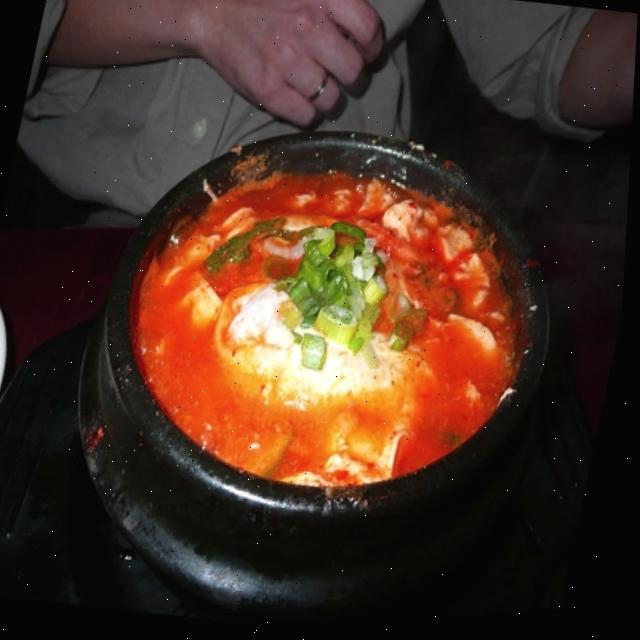汤锅炖物: (42, 49, 594, 564)
